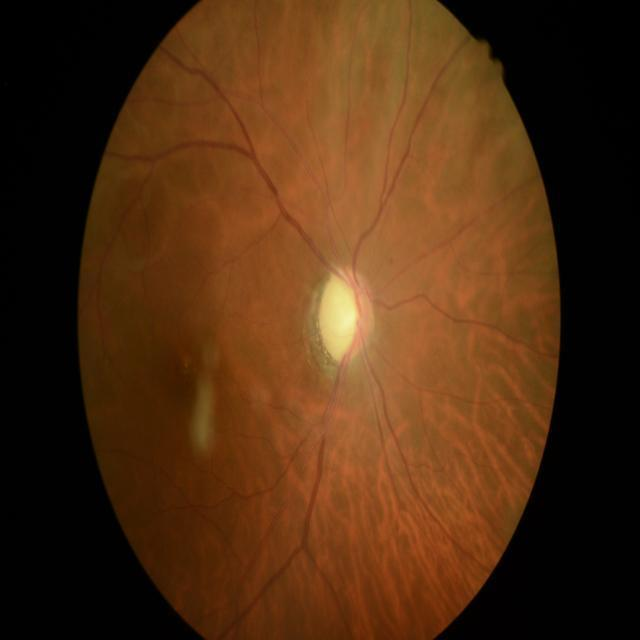cup: (327, 281, 362, 359)
disk: (316, 264, 374, 364)
